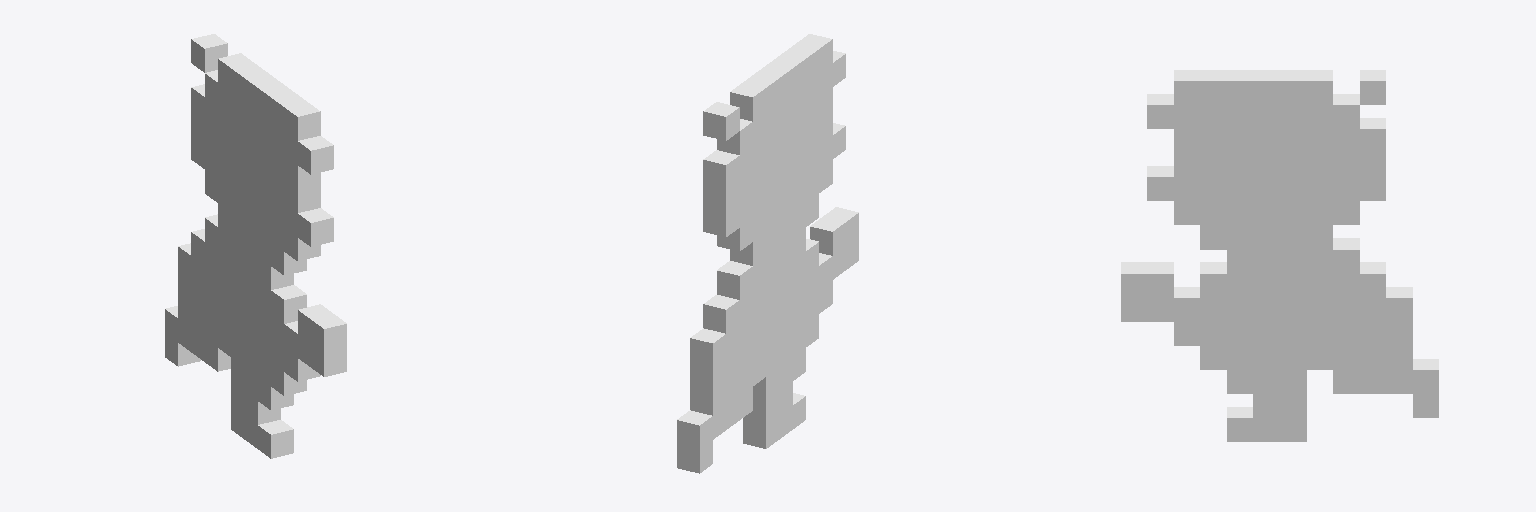
Rendered from Run3.obj.
The picture shows the model from 3 angles: view 1: azimuth 30°, elevation 25°; view 2: azimuth 150°, elevation 25°; view 3: azimuth 270°, elevation 25°; orthographic projection.
Parts seen in each view (by area): view 1: object 1; view 2: object 1; view 3: object 1.
Part boxes in pixels (x1,y1,x2,y2): object 1: (165,34,346,458); object 1: (677,34,858,473); object 1: (1121,70,1438,441).
Size of the model in its own units: 0.1 by 1.5 by 1.2.